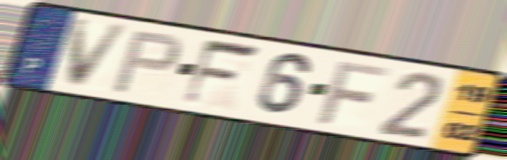2: (376, 69, 448, 143)
6: (255, 50, 313, 119)
F: (178, 37, 264, 108), (315, 58, 394, 127)
P: (108, 29, 185, 96)
V: (65, 17, 134, 90)
